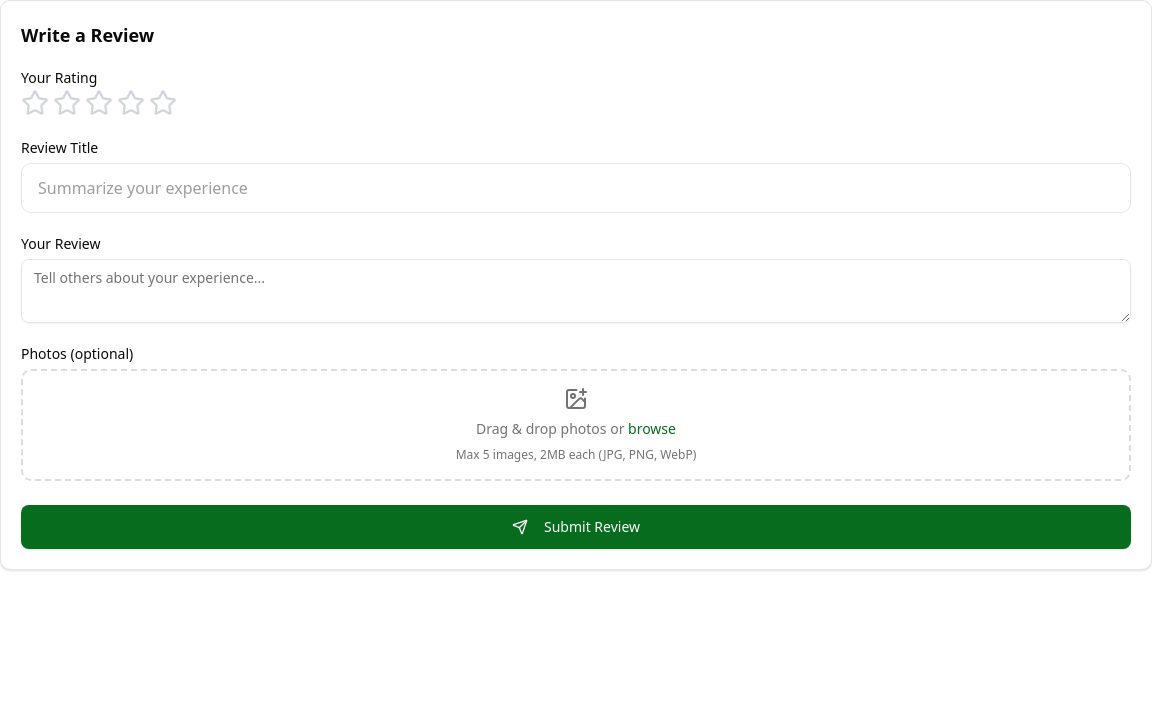
it: ReviewForm › when user is authenticated and has not reviewed › shows validation error for short content
This screenshot has width=1152, height=720.
Type "Good Title" into the field labelled "Review Title".
click(576, 188); type("Good Title")  # box [21, 163, 1131, 213]
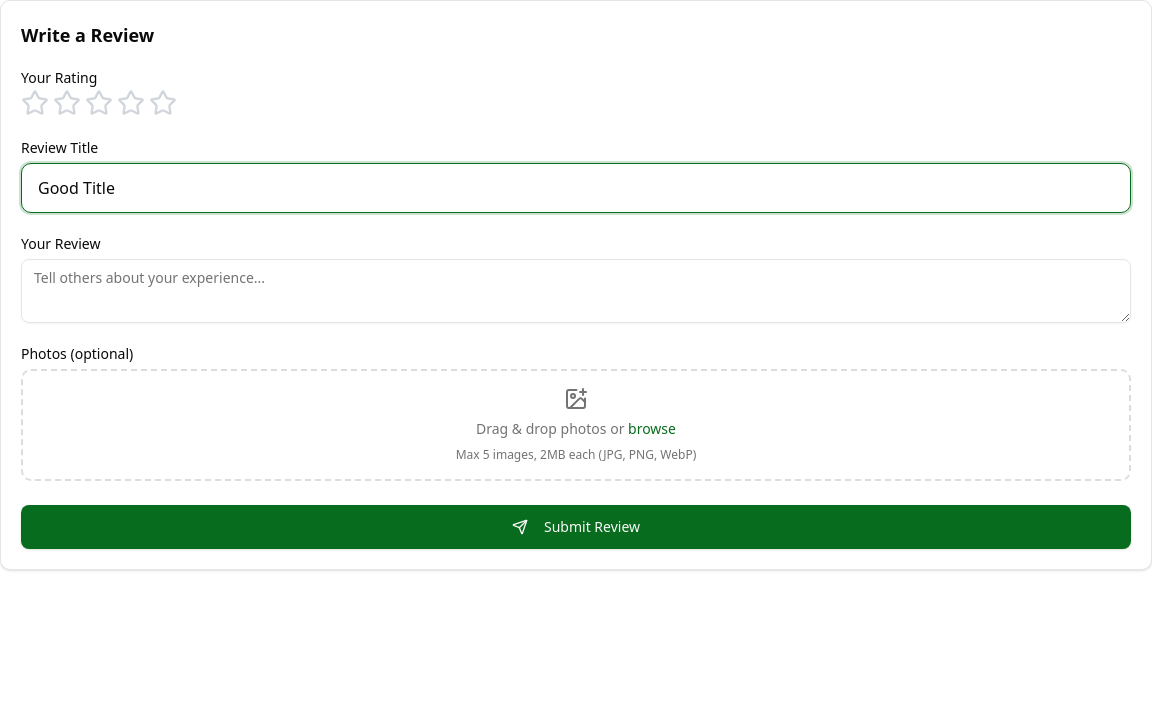
Type "Short" into the text box labelled "Your Review".
click(576, 291); type("Short")  # box [21, 259, 1131, 323]
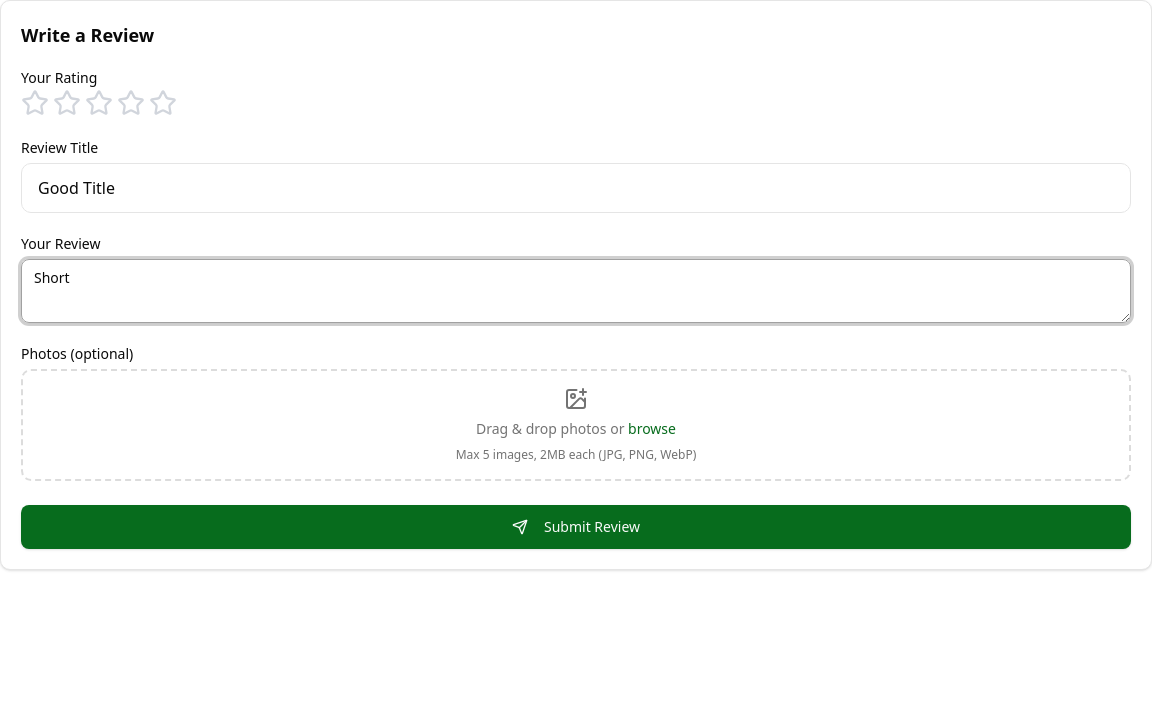
Click the button "Submit Review".
click(576, 527)  # box [21, 505, 1131, 549]
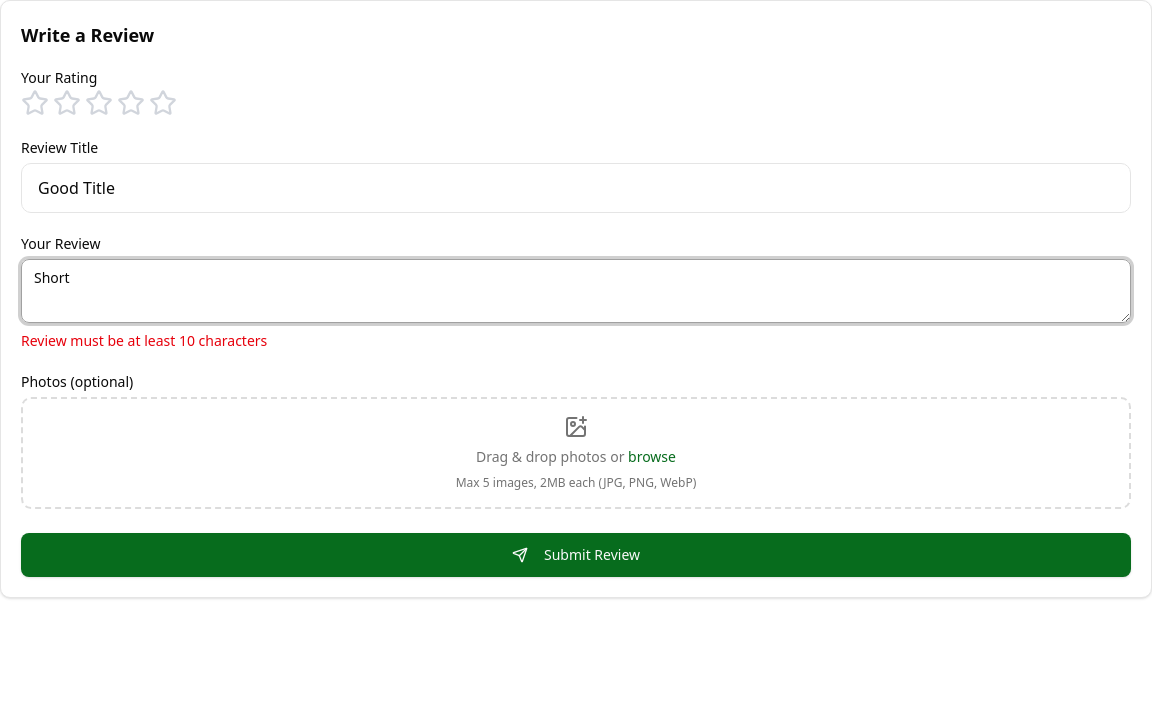
Expected: the text "Review must be at least 10 characters" is shown, [21, 331, 267, 350]
